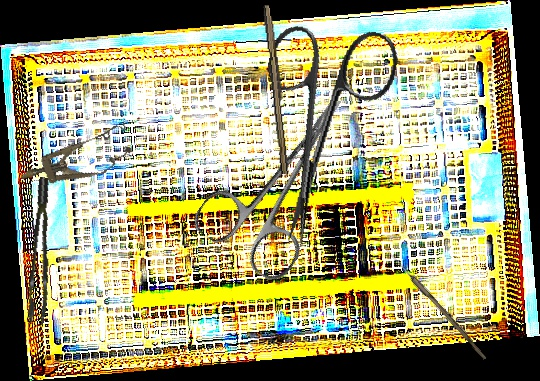Iris Scissors: (188, 70, 386, 287), (235, 13, 402, 259)
Scalpel Handle: (260, 4, 294, 175)
Speculum: (14, 120, 138, 199)
Surgical Spoon: (382, 246, 490, 361)
Tissue Forceps: (14, 176, 69, 326)
